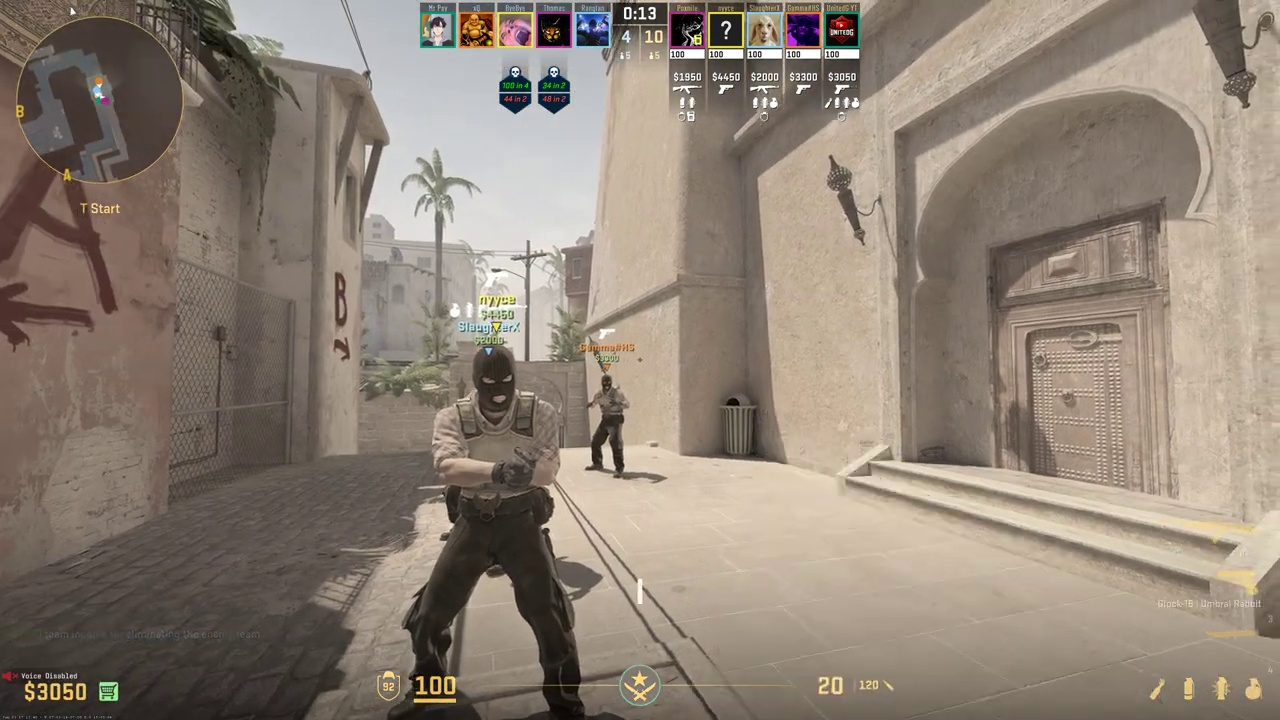Terrorist: (412, 346, 579, 718), (589, 375, 627, 478)
